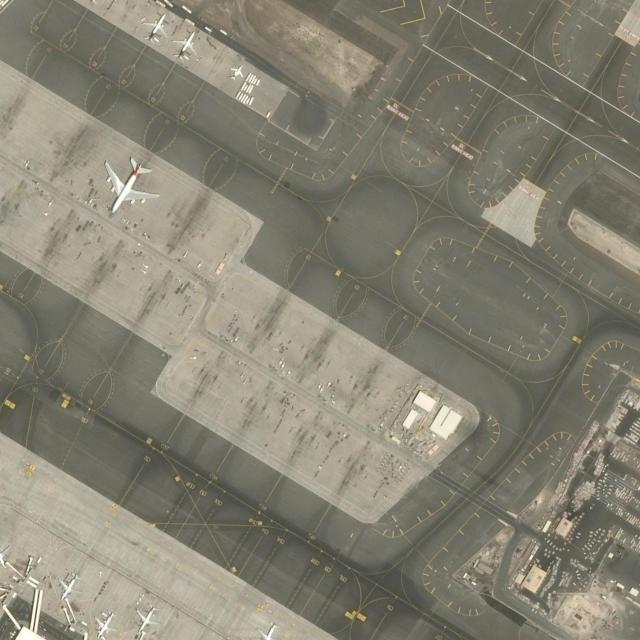Aircraft: (101, 152, 159, 214), (142, 12, 166, 44), (173, 30, 197, 61), (135, 601, 159, 631), (57, 571, 81, 599), (93, 609, 117, 637), (255, 619, 279, 640), (0, 536, 10, 567), (229, 64, 243, 82)
